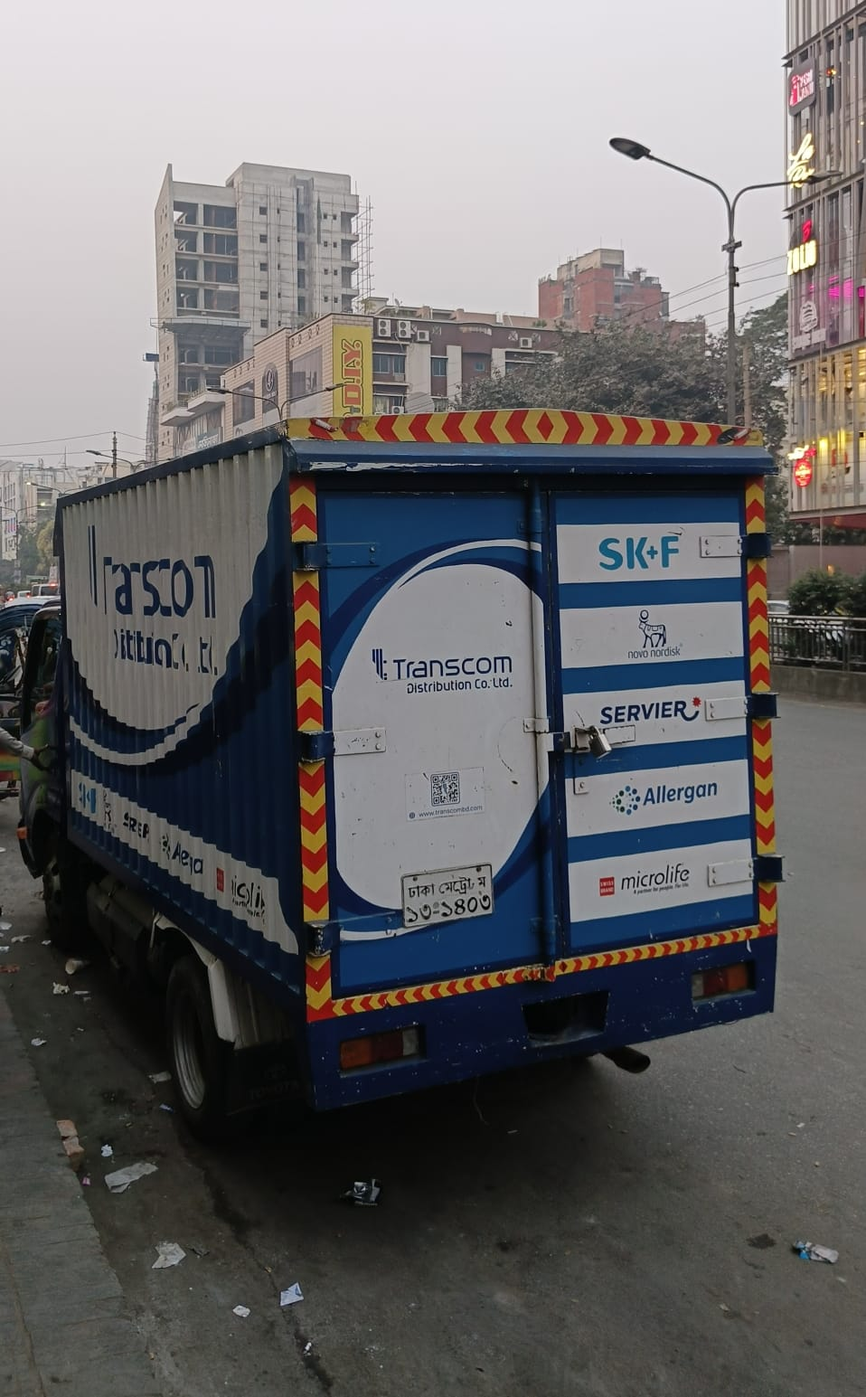Pickup: (0, 381, 823, 1146)
